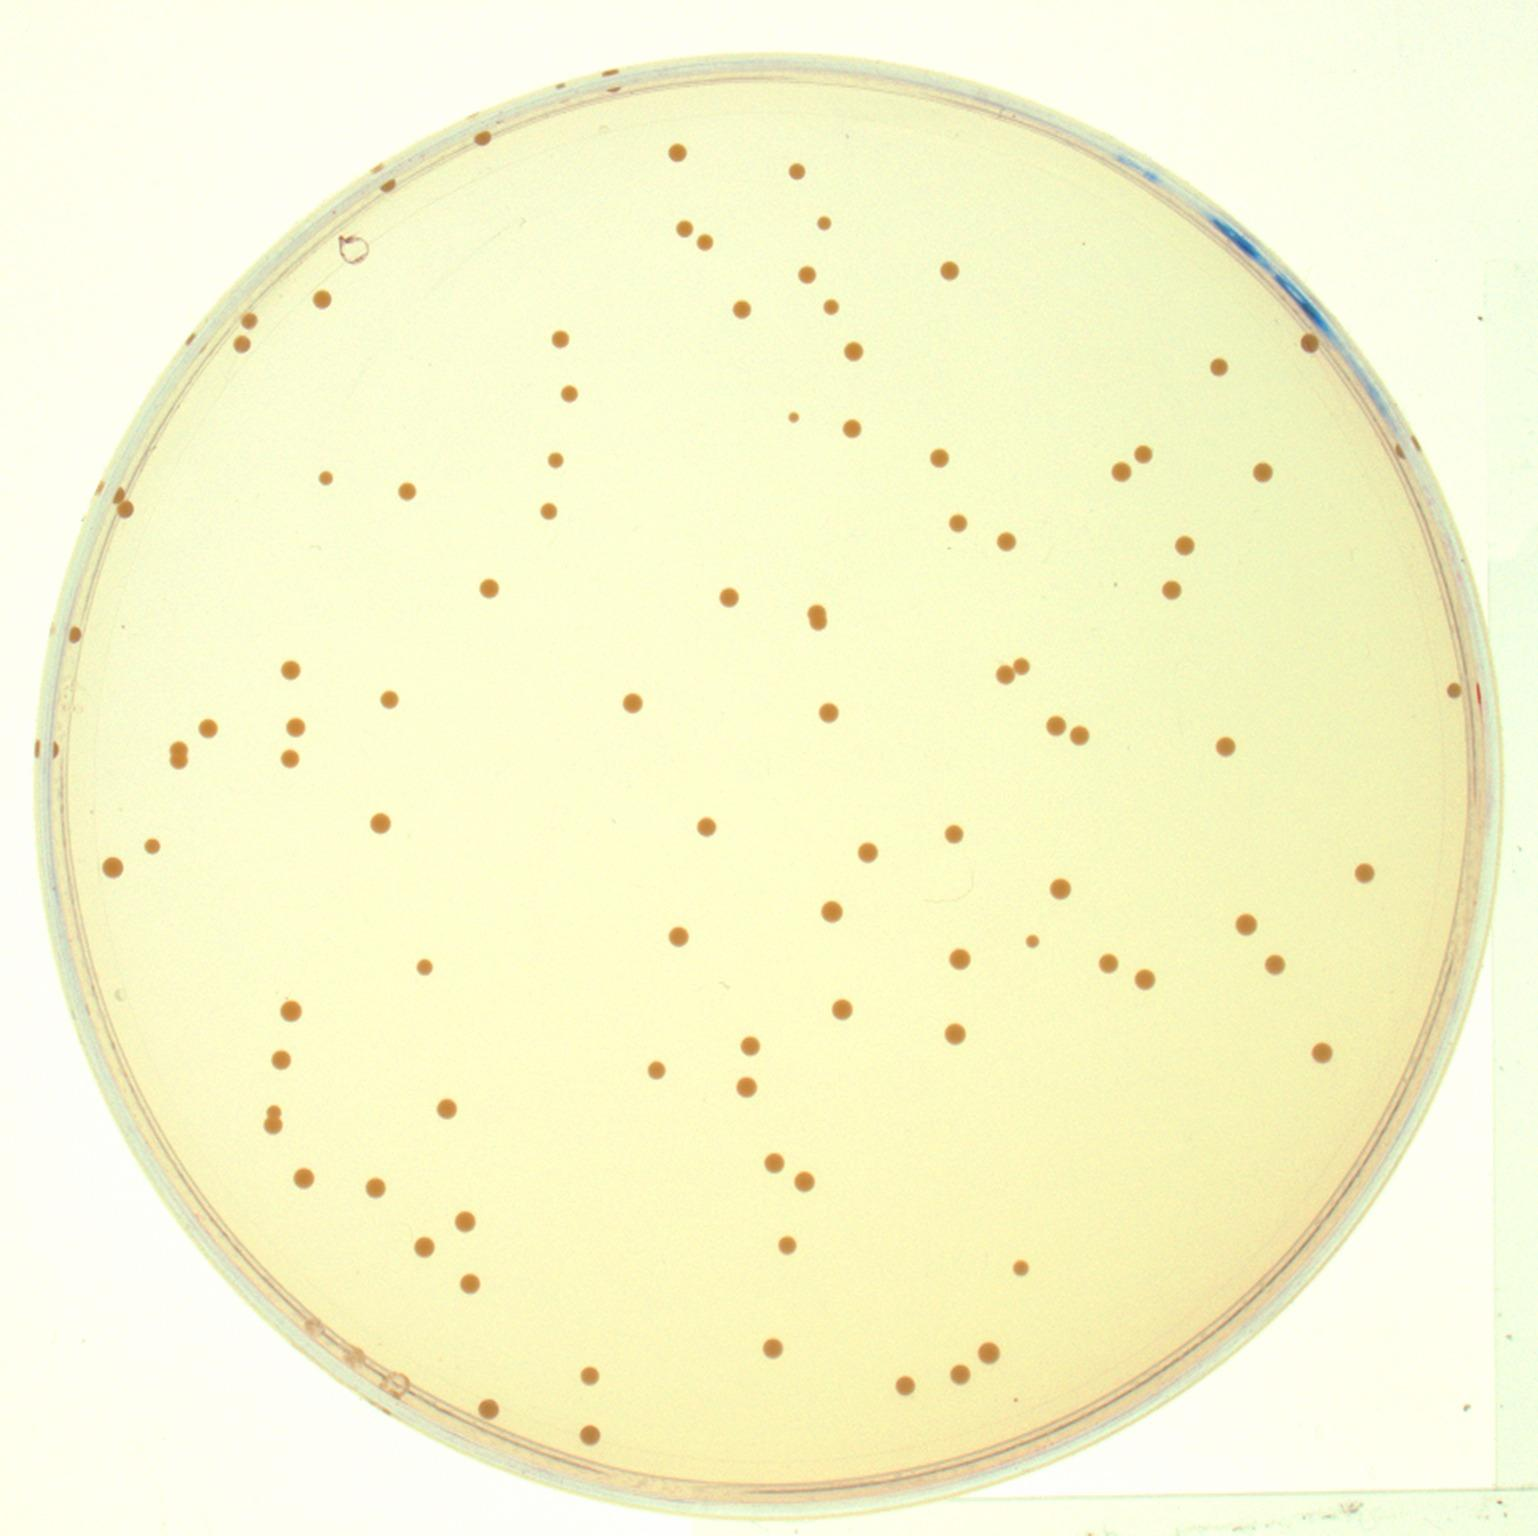colony: (307, 284, 336, 318), (660, 136, 692, 166), (924, 443, 954, 473), (408, 1232, 438, 1262), (782, 153, 811, 184), (943, 509, 971, 540), (940, 1018, 968, 1049), (813, 698, 841, 727), (757, 1333, 785, 1363), (1044, 875, 1074, 903), (888, 1373, 919, 1400), (276, 997, 304, 1025), (936, 256, 962, 286), (715, 582, 742, 612), (940, 821, 967, 851), (975, 1338, 1002, 1367), (276, 657, 305, 684), (837, 415, 864, 443), (1041, 710, 1068, 738), (664, 924, 692, 951), (946, 945, 974, 972), (1233, 910, 1259, 938), (991, 661, 1017, 689), (993, 527, 1019, 557), (853, 840, 879, 866), (431, 1096, 457, 1122), (1065, 720, 1091, 748), (818, 897, 843, 926), (944, 1362, 972, 1387), (473, 1395, 501, 1421), (576, 1364, 604, 1390), (466, 125, 494, 151), (373, 174, 401, 200), (1247, 460, 1275, 485), (236, 305, 260, 335), (792, 260, 818, 287), (729, 295, 754, 322), (737, 1032, 764, 1058), (733, 1075, 760, 1100), (643, 1058, 668, 1084), (288, 1166, 315, 1191), (98, 855, 124, 882), (193, 715, 220, 740), (110, 498, 136, 523), (556, 381, 581, 408), (1158, 578, 1185, 603), (830, 996, 854, 1024), (473, 577, 501, 601), (1297, 331, 1321, 359), (1212, 736, 1240, 760), (763, 1149, 785, 1179), (577, 1422, 602, 1447), (671, 217, 698, 241), (692, 813, 716, 840), (457, 1270, 481, 1297), (312, 466, 336, 492), (840, 336, 863, 364), (791, 1169, 816, 1193), (269, 1047, 293, 1072), (283, 715, 308, 738), (227, 332, 252, 356), (1206, 354, 1230, 380), (1129, 442, 1154, 466), (1262, 952, 1286, 978), (1310, 1041, 1335, 1065), (452, 1208, 474, 1235), (367, 812, 394, 834), (1354, 858, 1376, 885), (1096, 949, 1119, 976), (811, 210, 834, 233), (692, 229, 716, 253), (1009, 1256, 1033, 1280), (363, 1176, 387, 1200), (1133, 966, 1155, 992), (621, 691, 643, 715), (773, 1234, 796, 1256), (412, 955, 435, 979), (395, 478, 418, 502), (536, 499, 559, 523), (1109, 460, 1133, 482), (260, 1115, 284, 1138), (1010, 654, 1033, 678), (276, 747, 301, 768), (104, 484, 129, 505), (803, 601, 830, 620), (377, 688, 400, 710), (62, 622, 84, 644), (41, 737, 63, 760), (545, 449, 567, 471), (549, 326, 571, 349), (1174, 533, 1196, 556), (818, 294, 839, 318), (782, 407, 803, 430), (142, 836, 165, 857), (1390, 440, 1410, 464), (166, 754, 190, 772), (167, 738, 190, 757), (1445, 681, 1463, 702), (808, 616, 829, 634), (262, 1101, 283, 1118), (1023, 931, 1040, 951)
